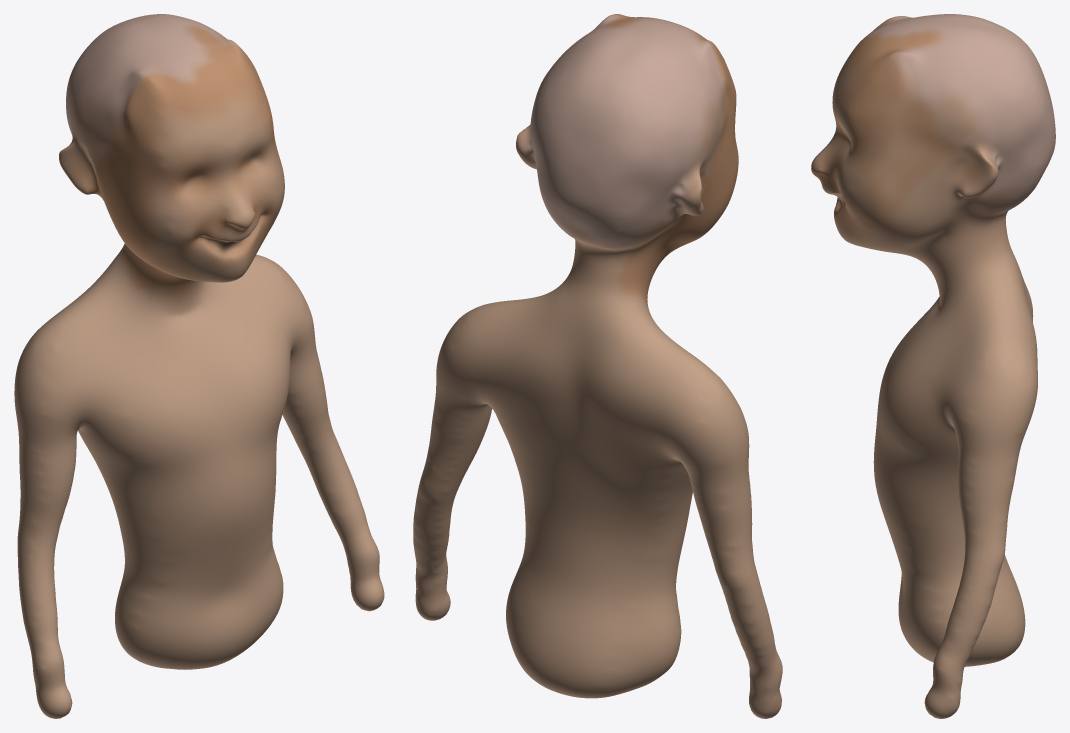
Rendered from бармен.fbx.
The picture shows the model from 3 angles, left to right: view 1: azimuth 30°, elevation 25°; view 2: azimuth 150°, elevation 25°; view 3: azimuth 270°, elevation 25°; orthographic projection. The views are drawn at different scales.
Parts seen in each view (by area): view 1: WaxDynaMesh128; view 2: WaxDynaMesh128; view 3: WaxDynaMesh128.
Boxes of the visible parts, x1,y1,x2,y2 form: WaxDynaMesh128: (14,14,384,718); WaxDynaMesh128: (413,14,782,718); WaxDynaMesh128: (811,14,1055,718).
Bounding box in the file's own units: 2.5 × 4.44 × 1.58.
